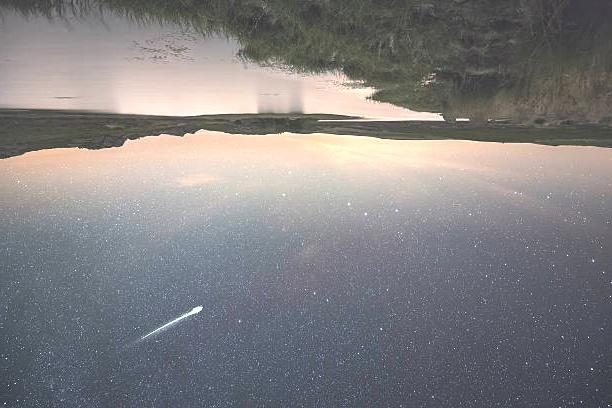meteorite: (128, 301, 211, 345)
